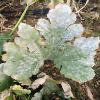Squash Powdery mildew leaf: (2, 3, 99, 82)
